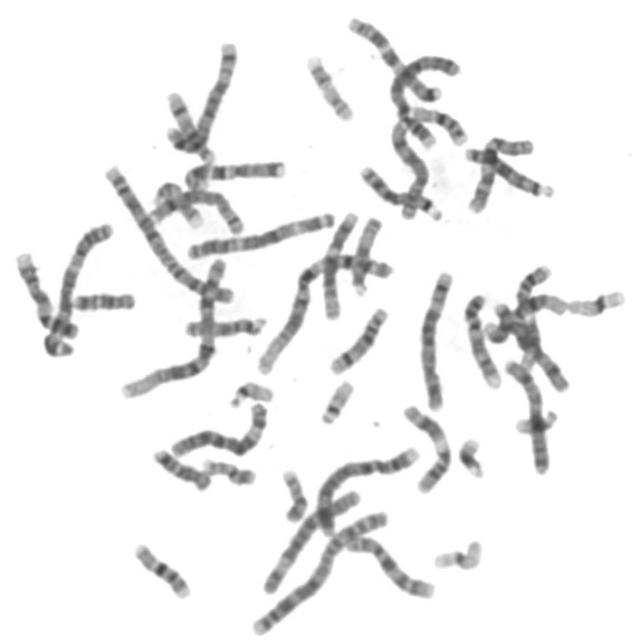A1: (250, 245, 396, 377), (115, 249, 232, 402)
A2: (98, 158, 237, 305), (247, 501, 393, 639)
A3: (36, 214, 116, 360), (182, 203, 339, 260)
B4: (308, 440, 424, 538), (383, 48, 465, 150)
B5: (159, 32, 242, 154), (414, 262, 458, 413)
C10: (340, 526, 440, 602), (462, 128, 536, 214)
C11: (396, 398, 456, 495), (511, 257, 556, 370)
C12: (315, 203, 362, 321), (480, 288, 570, 344)
C6: (256, 481, 364, 597), (165, 395, 272, 460)
C7: (342, 8, 446, 104), (177, 152, 289, 192)
C8: (377, 116, 441, 225), (145, 178, 248, 236)
C9: (9, 245, 81, 343), (457, 286, 505, 390)
D13: (459, 138, 558, 201), (355, 158, 446, 222)
D14: (323, 300, 393, 377), (160, 83, 218, 164)
D15: (344, 208, 387, 298), (179, 308, 271, 340)
E16: (127, 534, 195, 600), (404, 99, 473, 155)
E17: (300, 47, 358, 123), (147, 173, 207, 230)
E18: (147, 441, 215, 493), (68, 283, 138, 314)
F19: (427, 532, 487, 573), (564, 282, 630, 319)
F20: (196, 450, 260, 487), (276, 461, 312, 525)
G21: (452, 429, 488, 481), (511, 404, 561, 436)
G22: (314, 372, 358, 427), (223, 374, 276, 409)
X: (484, 296, 574, 395), (498, 351, 555, 478)
